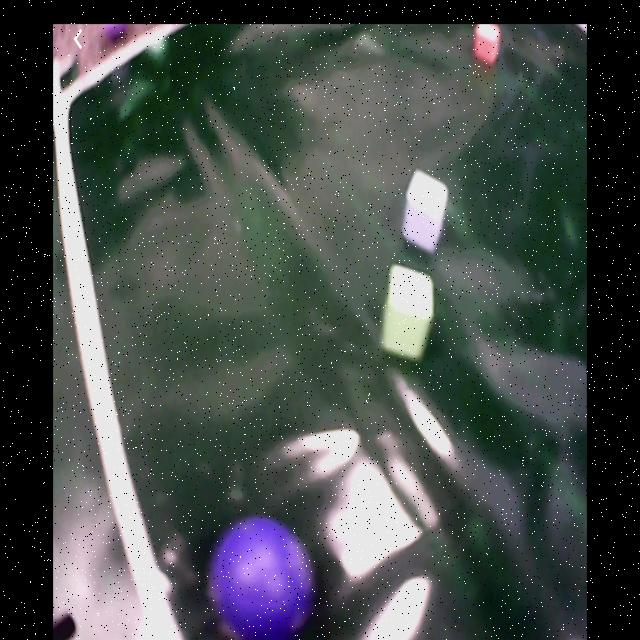ball: (211, 517, 314, 640), (103, 25, 126, 42)
